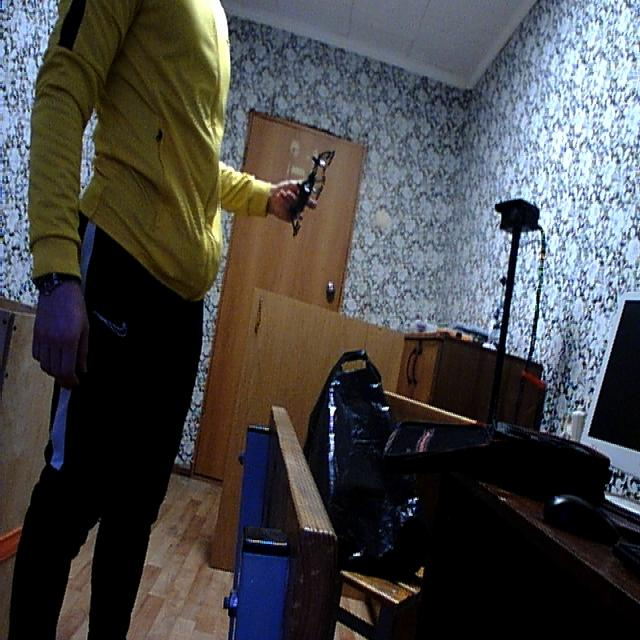drone: (277, 142, 340, 247)
